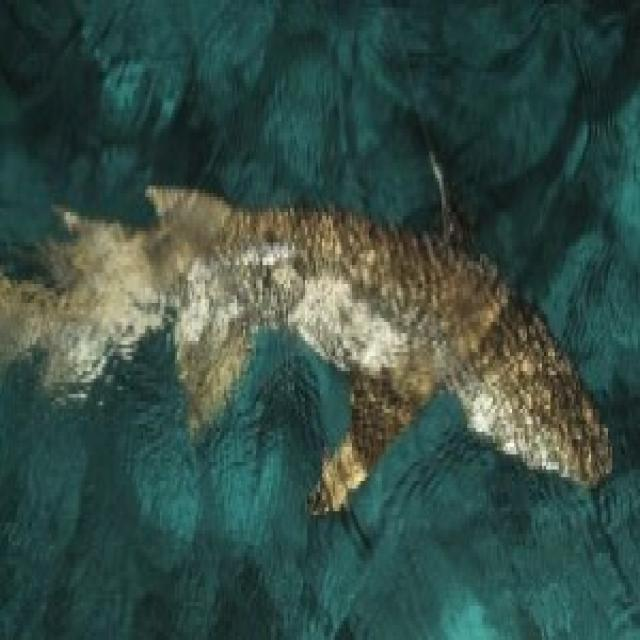Shark: (0, 102, 614, 515)
